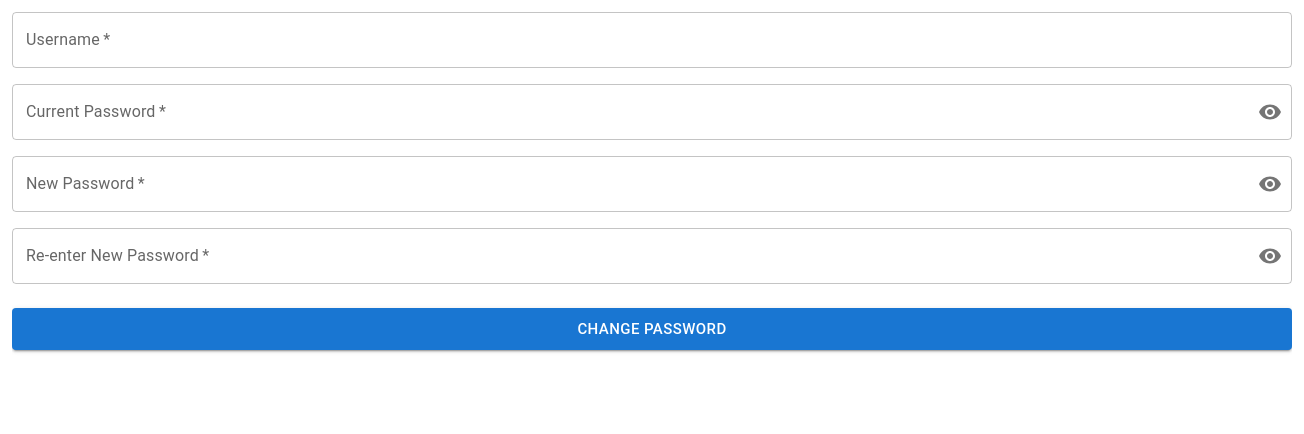
Test: PasswordForm › shows PasswordTooRecentlyChanged message on BUG-002 error code
Step 1. Type "jdoe" into the field labelled "Username *" → (652, 40), box [12,12,1292,68]
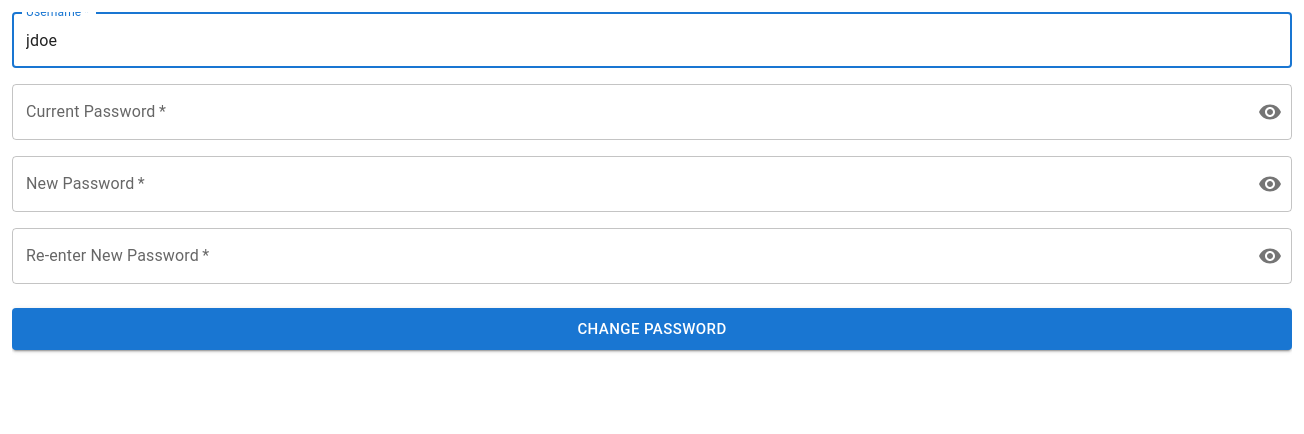
Step 2. Type "OldPass1!" into the password field labelled "Current Password *" → (627, 112), box [12,84,1242,140]
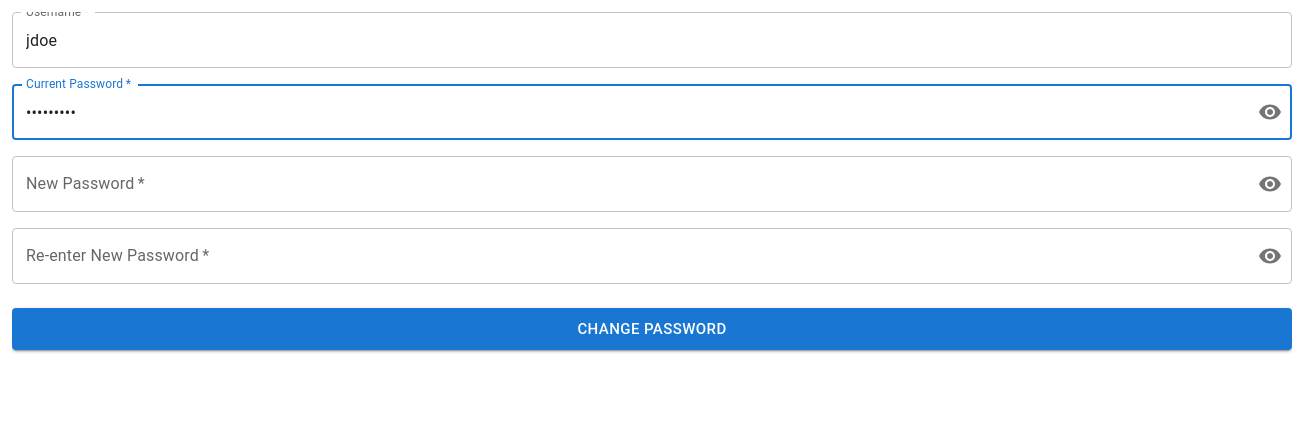
Step 3. Type "NewPass1!" into the password field labelled "New Password *" → (627, 184), box [12,156,1242,212]
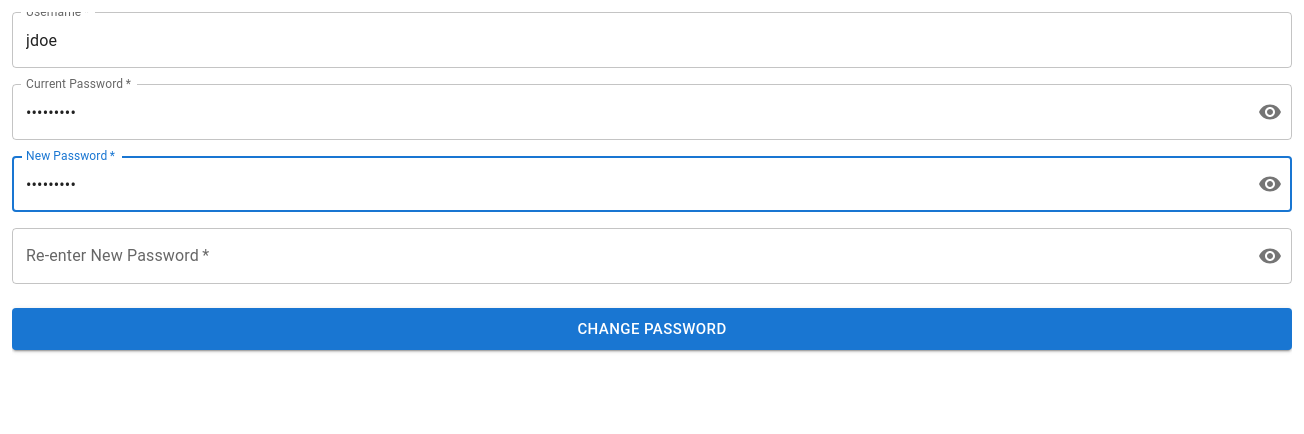
Step 4. Type "NewPass1!" into the password field labelled "Re-enter New Password *" → (627, 256), box [12,228,1242,284]
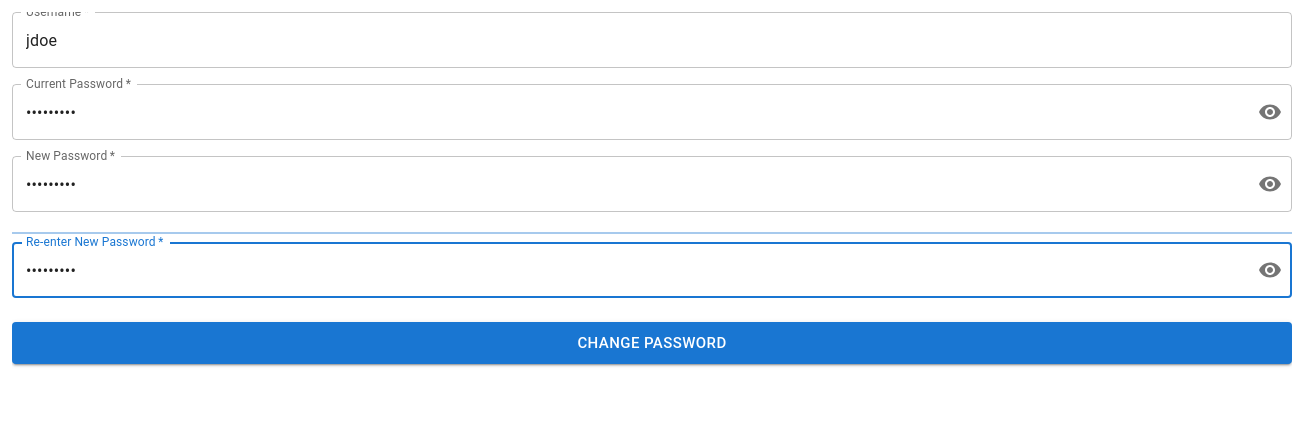
Step 5. Click the button "Change Password" → (652, 343), box [12,322,1292,364]
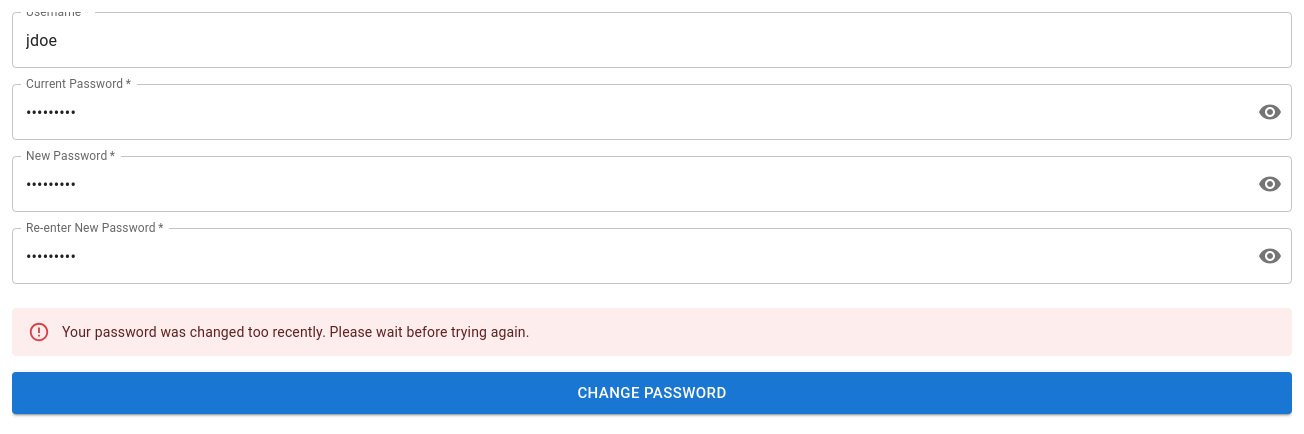
Now the text "changed too recently" is shown, box [62,324,530,340]
